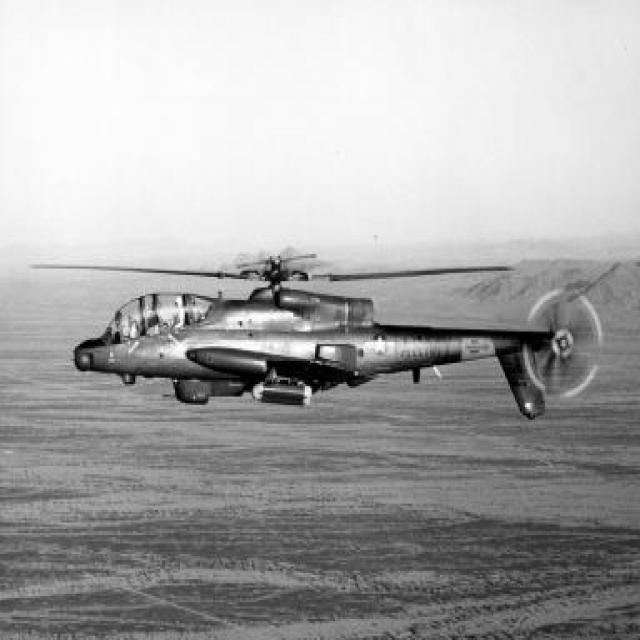MIL_HELO: (25, 239, 624, 449)
